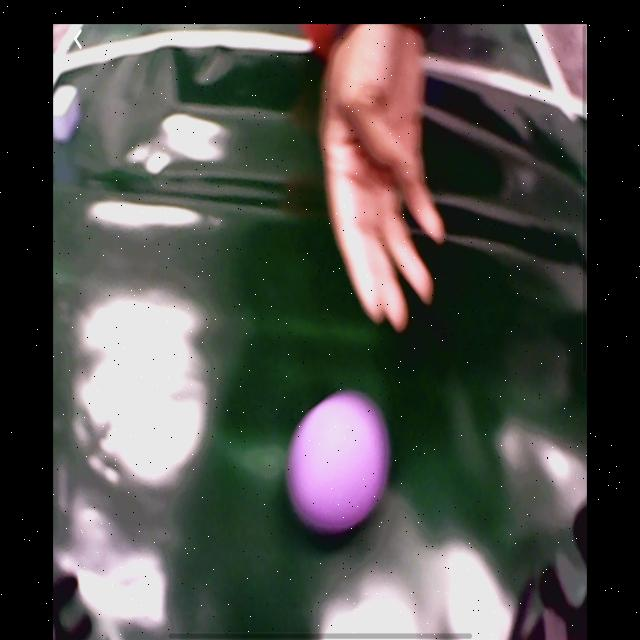ball: (293, 400, 382, 530)
